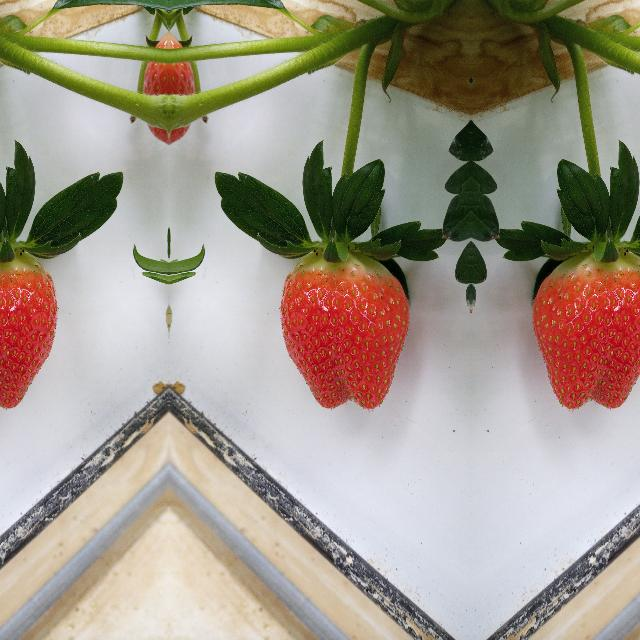Health_100: (278, 247, 410, 411), (531, 247, 640, 411), (0, 247, 58, 411)
